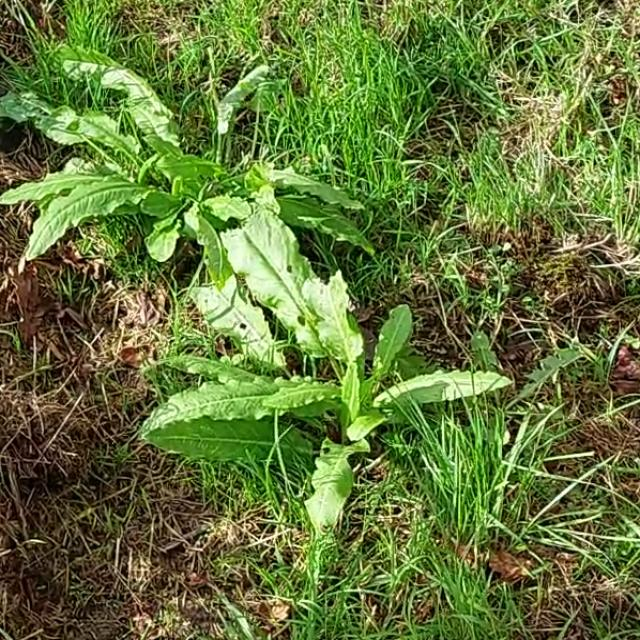organic waste: (134, 229, 516, 517), (8, 52, 388, 310)
